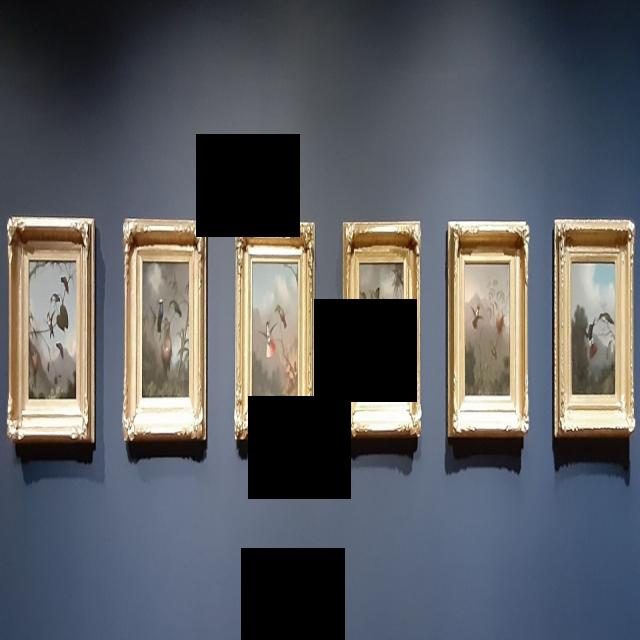Tablo: (28, 260, 76, 398), (142, 261, 189, 397), (252, 262, 298, 397), (359, 262, 404, 397), (465, 262, 510, 395), (571, 262, 615, 395)
